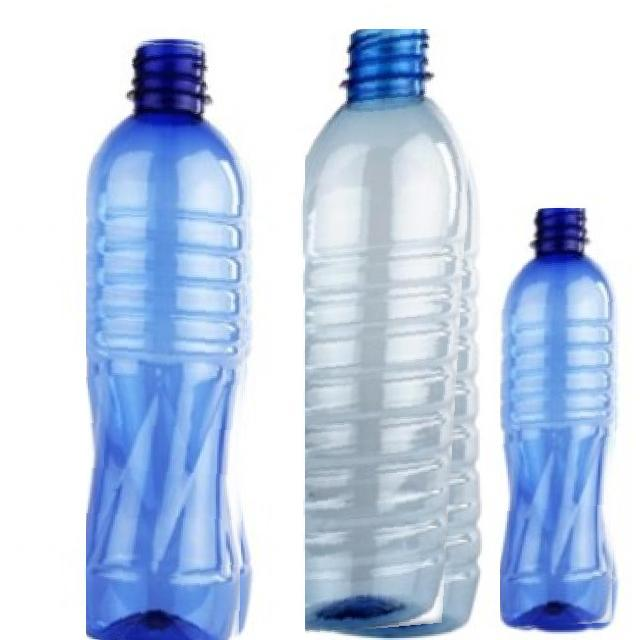plastic bottle: (305, 29, 478, 638), (86, 39, 252, 640), (500, 208, 618, 630)
